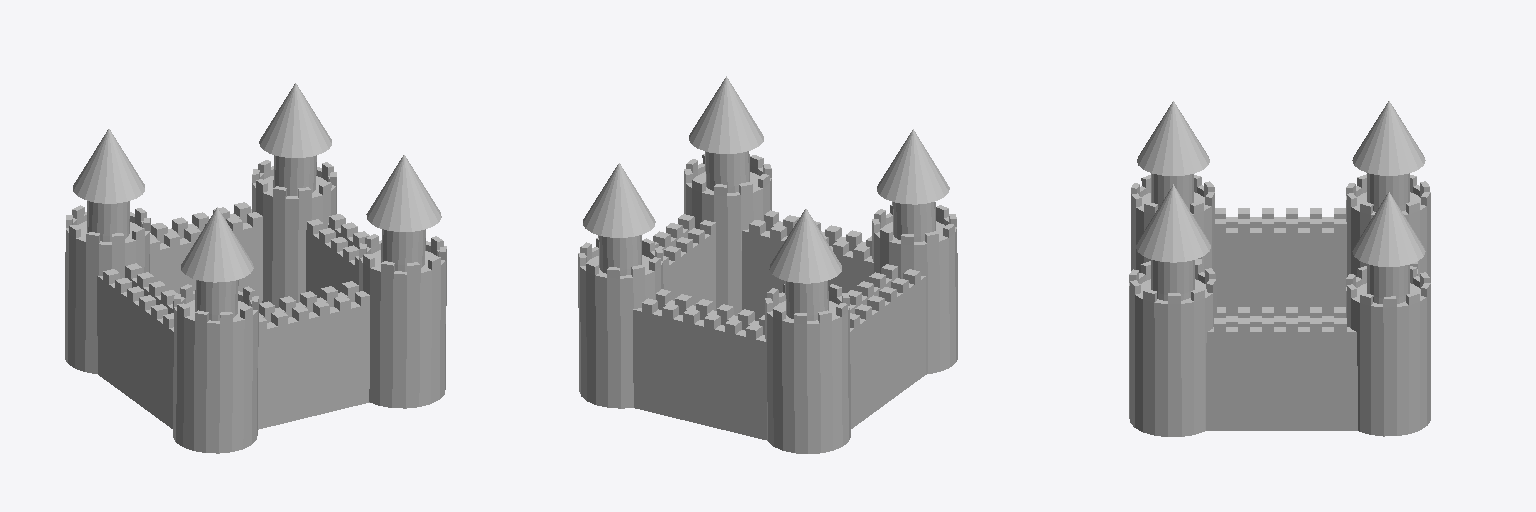
The model's file is TextureCastleRemodel.obj.
The picture shows the model from 3 angles: view 1: azimuth 30°, elevation 25°; view 2: azimuth 150°, elevation 25°; view 3: azimuth 270°, elevation 25°; orthographic projection.
Parts seen in each view (by area): view 1: CastleWall pCylinder1 pCylinder3 pCylinder4 pCylinder2, CastleWall CastleWall2 CastleWall3 CastleWall1, CastleWall pCylinder1 pCylinder3 pCylinder4 pCylinder2 pCone1 tr; view 2: CastleWall pCylinder1 pCylinder3 pCylinder4 pCylinder2, CastleWall CastleWall2 CastleWall3 CastleWall1, CastleWall pCylinder1 pCylinder3 pCylinder4 pCylinder2 pCone1 tr; view 3: CastleWall pCylinder1 pCylinder3 pCylinder4 pCylinder2, CastleWall CastleWall2 CastleWall3 CastleWall1, CastleWall pCylinder1 pCylinder3 pCylinder4 pCylinder2 pCone1 tr.
Part boxes in pixels (x1,y1,x2,y2): CastleWall pCylinder1 pCylinder3 pCylinder4 pCylinder2: (65, 155, 446, 453); CastleWall CastleWall2 CastleWall3 CastleWall1: (97, 202, 369, 429); CastleWall pCylinder1 pCylinder3 pCylinder4 pCylinder2 pCone1 tr: (73, 83, 441, 282); CastleWall pCylinder1 pCylinder3 pCylinder4 pCylinder2: (578, 151, 957, 453); CastleWall CastleWall2 CastleWall3 CastleWall1: (633, 210, 925, 439); CastleWall pCylinder1 pCylinder3 pCylinder4 pCylinder2 pCone1 tr: (583, 76, 949, 283); CastleWall pCylinder1 pCylinder3 pCylinder4 pCylinder2: (1129, 173, 1430, 436); CastleWall CastleWall2 CastleWall3 CastleWall1: (1195, 208, 1417, 430); CastleWall pCylinder1 pCylinder3 pCylinder4 pCylinder2 pCone1 tr: (1136, 101, 1425, 266).
Size of the model in its own units: 15.49 by 13.26 by 15.39.